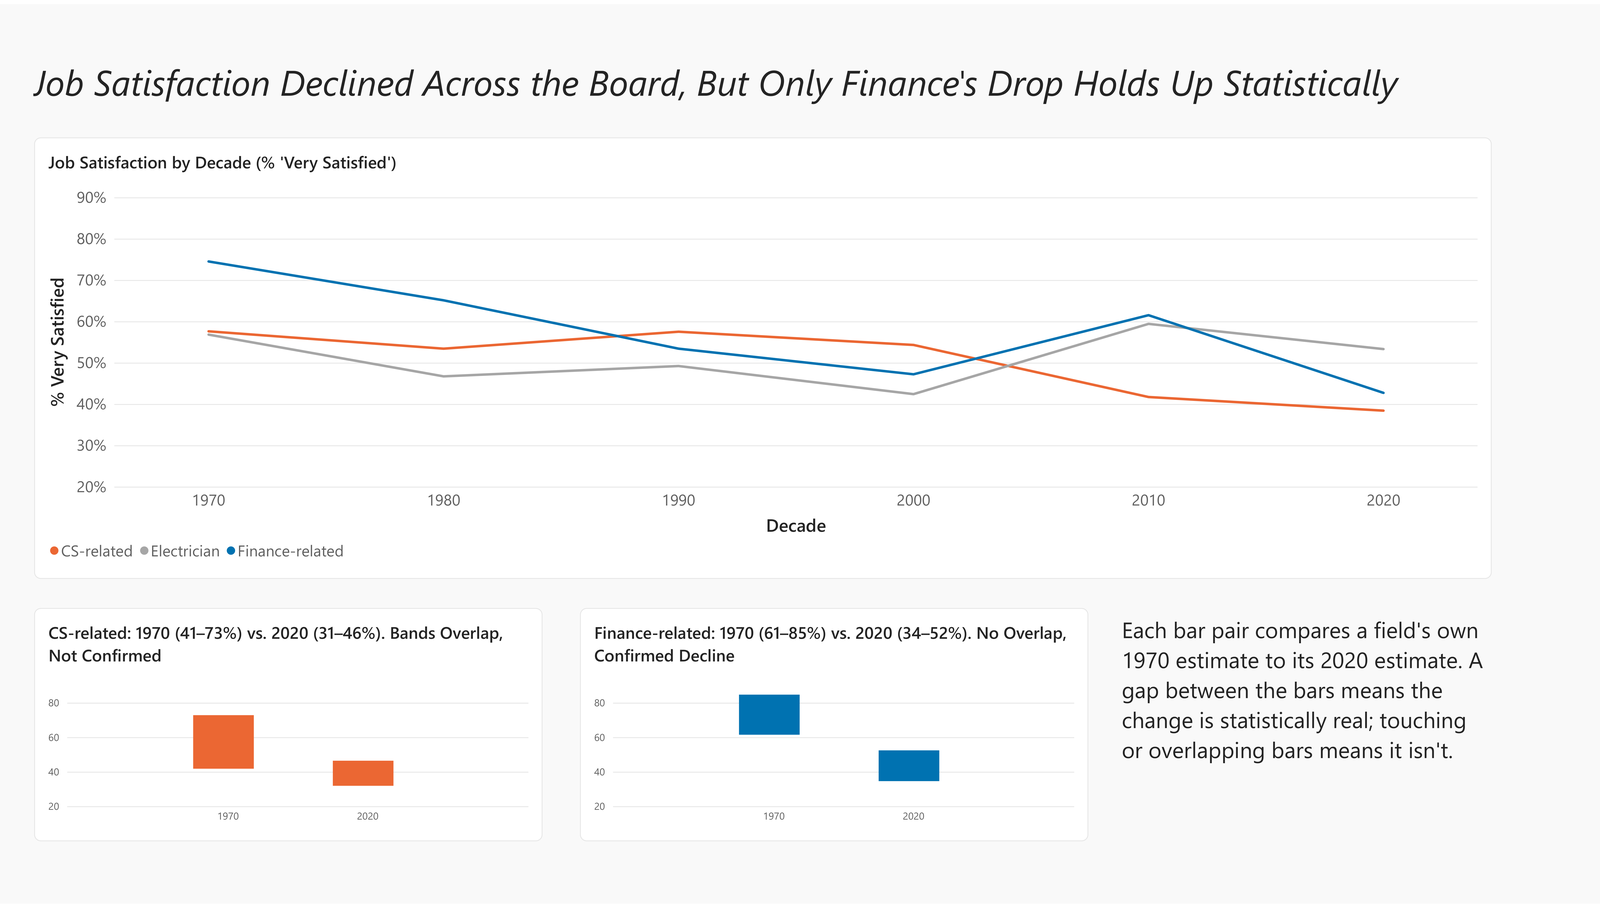

The dashboard page shown, as its layout file describes it:
{"tool":"powerbi","page":{"name":"Job Satisfaction Trend","canvas":[1920,1080],"ordinal":2},"visuals":[{"type":"lineChart","title":"Job Satisfaction by Decade (% ''Very Satisfied'')","fields":{"Category":["satisfaction_by_decade.decade"],"Series":["satisfaction_by_decade.occupation_group"],"Y":["Avg(satisfaction_by_decade.very_satisfied_pct)"]},"box":[71.5,208.6,1281,693],"z":0},{"type":"textbox","box":[46.7,27.7,1699.7,234.9],"z":1000},{"type":"shape","box":[1419.6,534,401.2,268.4],"z":2000},{"type":"textbox","box":[1440,567.5,360.4,199.9],"z":3000},{"type":"columnChart","title":"CS-related: 95% Confidence Interval","fields":{"Category":["satisfaction_bands_wide.decade"],"Y":["Sum(satisfaction_bands_wide.CS_low)","Sum(satisfaction_bands_wide.CS_band_width)"]},"box":[1419.6,163.4,380.8,342.9],"z":3001}]}

Visuals, with their boxes in screenshot pixels (x1, y1, x2, y2), scaled from the page's 1920x1080 canvas onto the 1600x908 screenshot:
"Job Satisfaction by Decade (% ''Very Satisfied'')" lineChart: box=[60, 175, 1127, 758]
textbox: box=[39, 23, 1455, 221]
shape: box=[1183, 449, 1517, 675]
textbox: box=[1200, 477, 1500, 645]
"CS-related: 95% Confidence Interval" columnChart: box=[1183, 137, 1500, 426]
